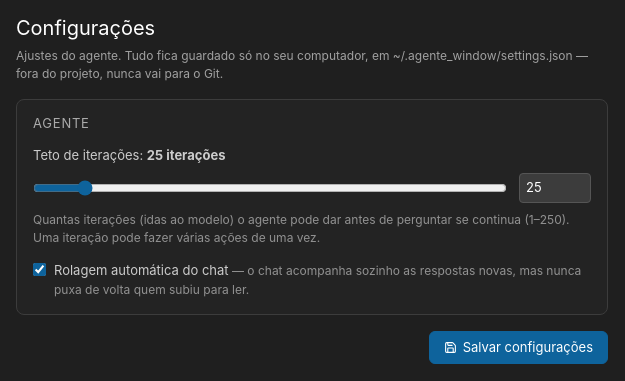
Scenario: ConfigView (FATIA 11) › mostra o eco grampeado do servidor (digitou 999, vale 250)
The width and height of the screenshot is (625, 381).
expect the heading "Configurações" is shown: met, box [16,16,155,40]
Replace the text in the number field named "Teto de iterações do agente" with "999" at (555, 188), box [519,173,591,202]
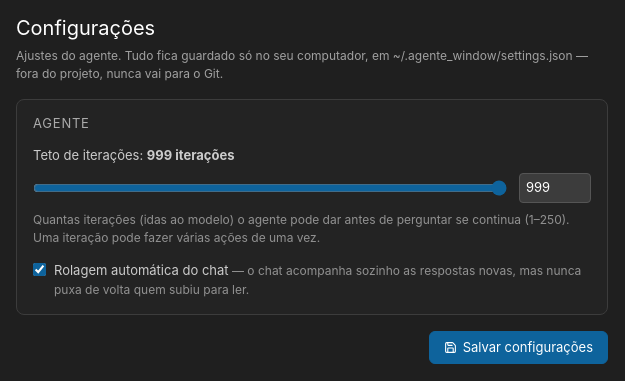
Click the button "Salvar configurações".
click(518, 347)  # box [429,330,608,364]
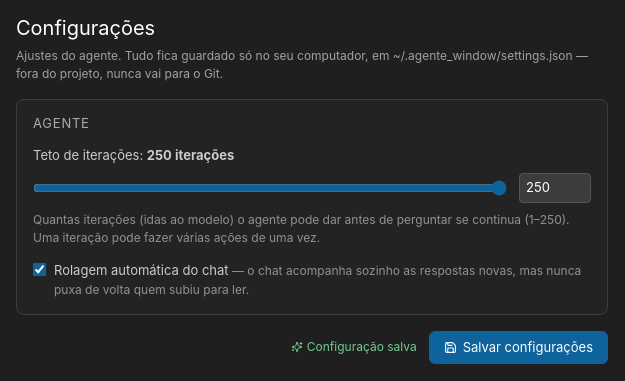
expect the number field named "Teto de iterações do agente" holds "250": met, box [519,173,591,202]
expect the text "250 iterações" is shown: met, box [147,146,234,162]
